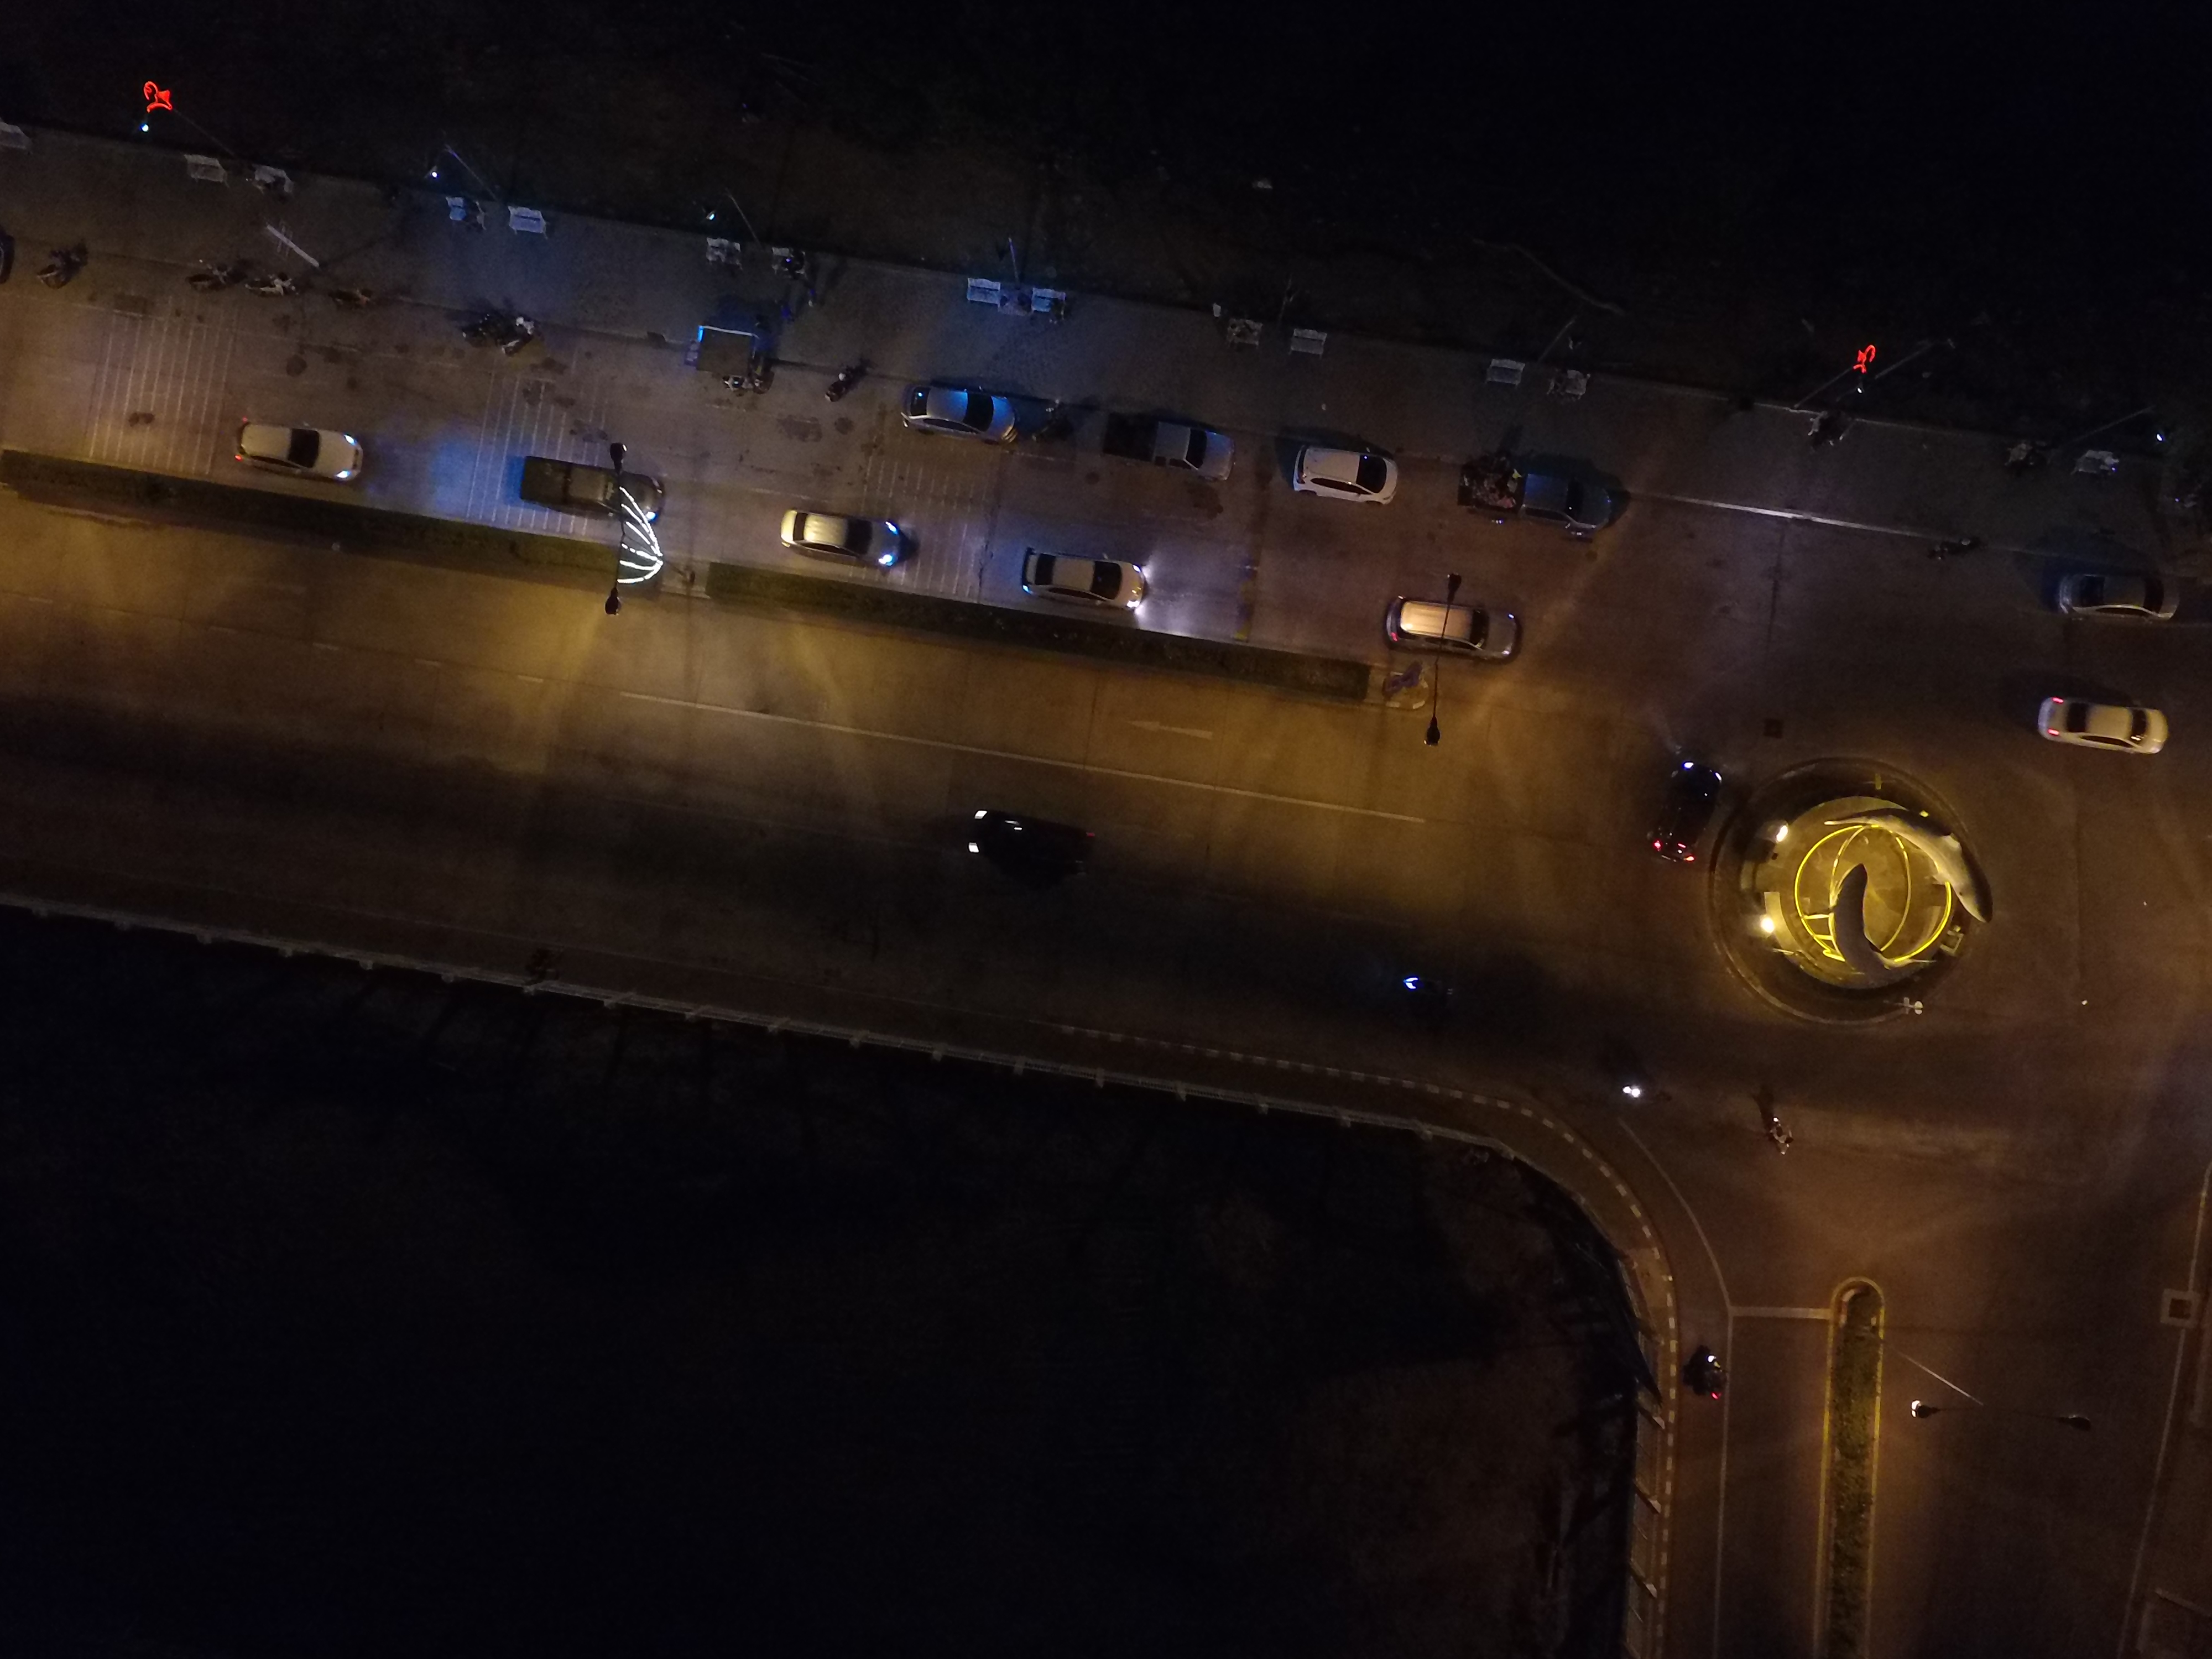car: (1456, 451, 1611, 544), (2031, 674, 2186, 767), (2036, 556, 2191, 648), (1378, 584, 1531, 676), (948, 786, 1101, 878), (214, 413, 383, 493), (881, 376, 1050, 457), (758, 504, 927, 584), (1005, 537, 1174, 617), (507, 453, 674, 533), (1078, 413, 1245, 493), (1275, 436, 1414, 518), (1646, 748, 1730, 870)
